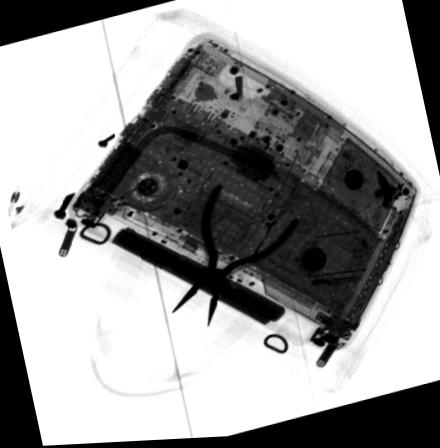Pliers: (169, 185, 300, 332)
